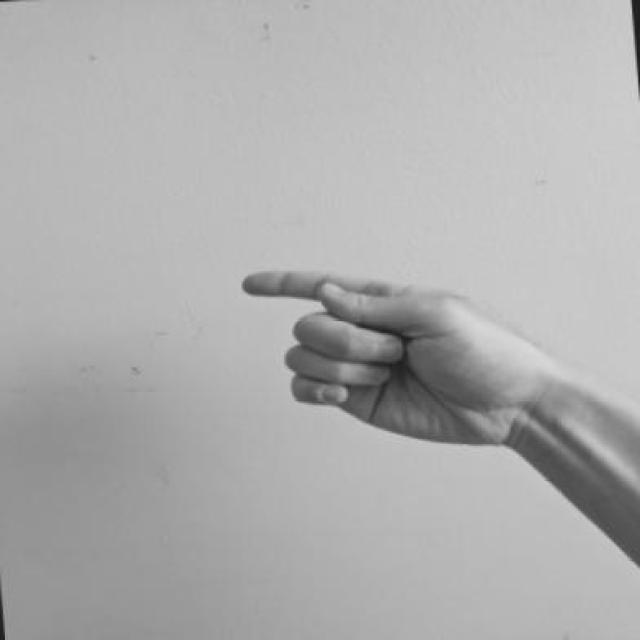G: (230, 233, 610, 483)
